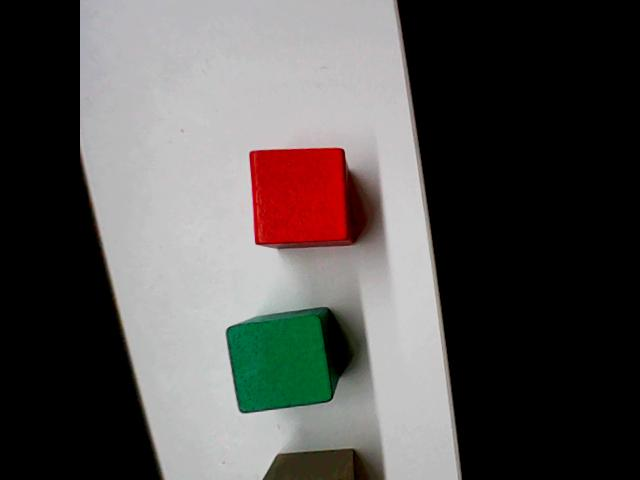green_box: (221, 304, 342, 416)
raw_box: (256, 447, 356, 480)
red_box: (244, 143, 356, 251)
